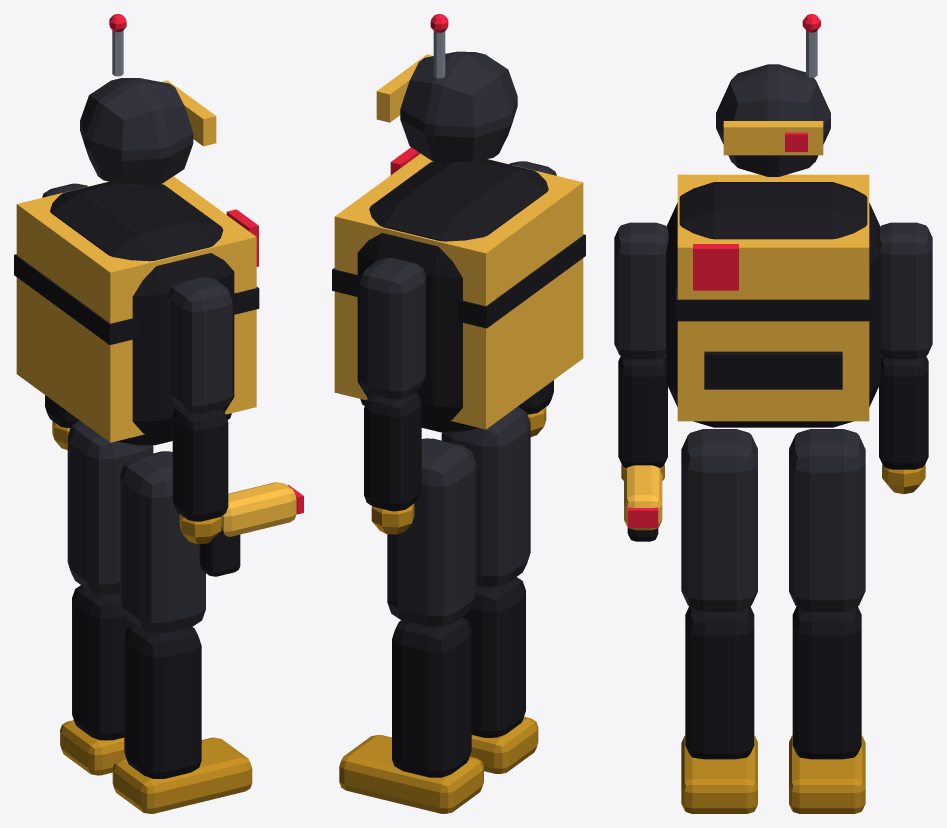
File: steward_robot.glb
3 renders of one model, left to right at view 1: azimuth 30°, elevation 25°; view 2: azimuth 150°, elevation 25°; view 3: azimuth 270°, elevation 25°, orthographic. The views are drawn at different scales.
Parts seen in each view (by area): view 1: p_box.8161, p_rbox.1953, p_rbox.1947, p_rbox.1948, p_rbox.1954, p_rbox.1950, p_rbox.1955, p_rbox.1951, p_rbox.1956, p_rbox.1949, p_box.8162, p_rbox.1958 (+6 smaller); view 2: p_box.8161, p_rbox.1953, p_rbox.1950, p_rbox.1951, p_rbox.1954, p_rbox.1947, p_rbox.1959, p_rbox.1948, p_rbox.1960, p_rbox.1952, p_box.8162, p_rbox.1949 (+4 smaller); view 3: p_box.8161, p_rbox.1953, p_rbox.1950, p_rbox.1947, p_rbox.1951, p_rbox.1948, p_rbox.1959, p_rbox.1955, p_rbox.1954, p_rbox.1960, p_box.8163, p_rbox.1956 (+8 smaller).
Boxes of the visible parts, x1,y1,x2,y2 form: p_box.8161: (16, 176, 256, 442); p_rbox.1953: (50, 181, 234, 445); p_rbox.1947: (120, 451, 205, 633); p_rbox.1948: (124, 623, 201, 778); p_rbox.1954: (80, 78, 193, 186); p_rbox.1950: (67, 420, 153, 595); p_rbox.1955: (168, 277, 232, 413); p_rbox.1951: (72, 585, 133, 740); p_rbox.1956: (172, 406, 228, 521); p_rbox.1949: (112, 737, 252, 813); p_box.8162: (14, 254, 259, 344); p_rbox.1958: (221, 482, 296, 536); p_box.8161: (334, 153, 583, 429); p_rbox.1953: (357, 159, 548, 432); p_rbox.1950: (387, 438, 476, 627); p_rbox.1951: (392, 617, 471, 777); p_rbox.1954: (400, 51, 517, 163); p_rbox.1947: (441, 406, 530, 587); p_rbox.1959: (359, 258, 425, 399); p_rbox.1948: (462, 577, 525, 737); p_rbox.1960: (364, 392, 421, 511); p_rbox.1952: (339, 735, 483, 813); p_box.8162: (332, 234, 585, 328); p_rbox.1949: (470, 716, 538, 773); p_box.8161: (677, 174, 869, 421); p_rbox.1953: (666, 182, 880, 427); p_rbox.1950: (789, 429, 865, 611); p_rbox.1947: (681, 429, 757, 611); p_rbox.1951: (792, 606, 861, 759); p_rbox.1948: (685, 606, 754, 759); p_rbox.1959: (878, 222, 932, 359); p_rbox.1955: (614, 222, 668, 359); p_rbox.1954: (716, 64, 830, 176); p_rbox.1960: (879, 356, 928, 469); p_box.8163: (704, 351, 842, 389); p_rbox.1956: (618, 356, 667, 467).
Size of the model in its own units: 0.525 by 2.21 by 0.83.
